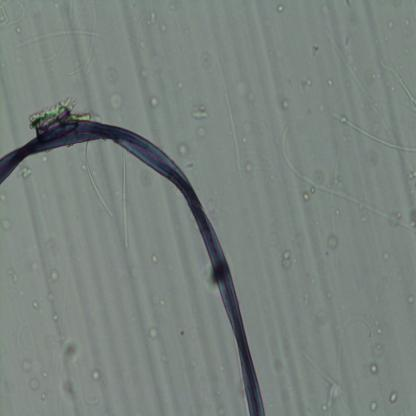Background material: (27, 92, 78, 134), (275, 341, 293, 412), (364, 0, 382, 59), (318, 367, 340, 410), (17, 321, 38, 366), (68, 47, 97, 78), (0, 0, 32, 27), (57, 337, 81, 368), (204, 198, 223, 222), (42, 235, 60, 258), (79, 390, 102, 406), (137, 166, 154, 187), (73, 110, 102, 122), (198, 49, 214, 69), (267, 230, 279, 256), (107, 92, 124, 110), (143, 9, 159, 28), (87, 0, 96, 33), (323, 233, 339, 251), (192, 103, 208, 121), (375, 58, 395, 72), (281, 249, 294, 270), (42, 332, 54, 354), (62, 378, 74, 399), (389, 207, 401, 228), (312, 168, 326, 186), (6, 266, 19, 284), (104, 67, 118, 83), (372, 342, 384, 360), (317, 306, 330, 322), (348, 54, 358, 74), (152, 294, 166, 308), (194, 125, 208, 139), (146, 326, 158, 342), (18, 167, 35, 178), (407, 208, 416, 228), (21, 357, 33, 372), (302, 292, 312, 309), (406, 165, 416, 182), (29, 376, 41, 390), (136, 67, 149, 79), (388, 390, 399, 404), (340, 131, 354, 142), (319, 5, 333, 16), (149, 94, 160, 108), (136, 36, 147, 50), (50, 267, 59, 284), (258, 120, 268, 134), (129, 264, 139, 278), (244, 163, 255, 175), (368, 363, 380, 374), (30, 296, 40, 309), (159, 21, 169, 34), (374, 319, 382, 335), (381, 247, 390, 261), (29, 261, 40, 272), (275, 2, 286, 13), (280, 98, 292, 108), (68, 0, 74, 20), (310, 44, 319, 57), (180, 144, 189, 157), (370, 400, 378, 414), (334, 173, 344, 184), (39, 368, 49, 379), (301, 79, 311, 90), (2, 218, 12, 229), (93, 369, 101, 382), (80, 236, 88, 249), (176, 80, 186, 90), (324, 290, 334, 300), (215, 406, 225, 416), (371, 71, 382, 80), (300, 191, 309, 202), (406, 292, 414, 304), (245, 121, 252, 134), (51, 312, 60, 322), (46, 292, 56, 301), (168, 1, 178, 10), (386, 18, 394, 29), (14, 53, 22, 64), (361, 214, 370, 223), (52, 0, 60, 10), (42, 154, 50, 164), (40, 191, 48, 201), (340, 113, 347, 124), (150, 255, 159, 263), (188, 360, 197, 368), (249, 90, 255, 102), (161, 353, 169, 361), (318, 104, 326, 112), (326, 78, 334, 86), (14, 26, 22, 34), (345, 0, 353, 8), (336, 208, 342, 218), (381, 33, 388, 41), (39, 393, 47, 400), (345, 35, 350, 46), (358, 203, 364, 212), (241, 135, 247, 144), (0, 193, 6, 202), (180, 328, 186, 336), (218, 364, 224, 372), (404, 18, 410, 26), (130, 1, 136, 9), (403, 46, 409, 54), (0, 60, 5, 69), (309, 187, 315, 194), (270, 174, 276, 180)
Cotton: (0, 119, 266, 416)
Glass filter fibre: (280, 124, 416, 238), (333, 313, 372, 416), (331, 111, 416, 154), (217, 74, 244, 180), (6, 25, 99, 50), (82, 141, 112, 216), (118, 146, 130, 249), (387, 70, 416, 103)
